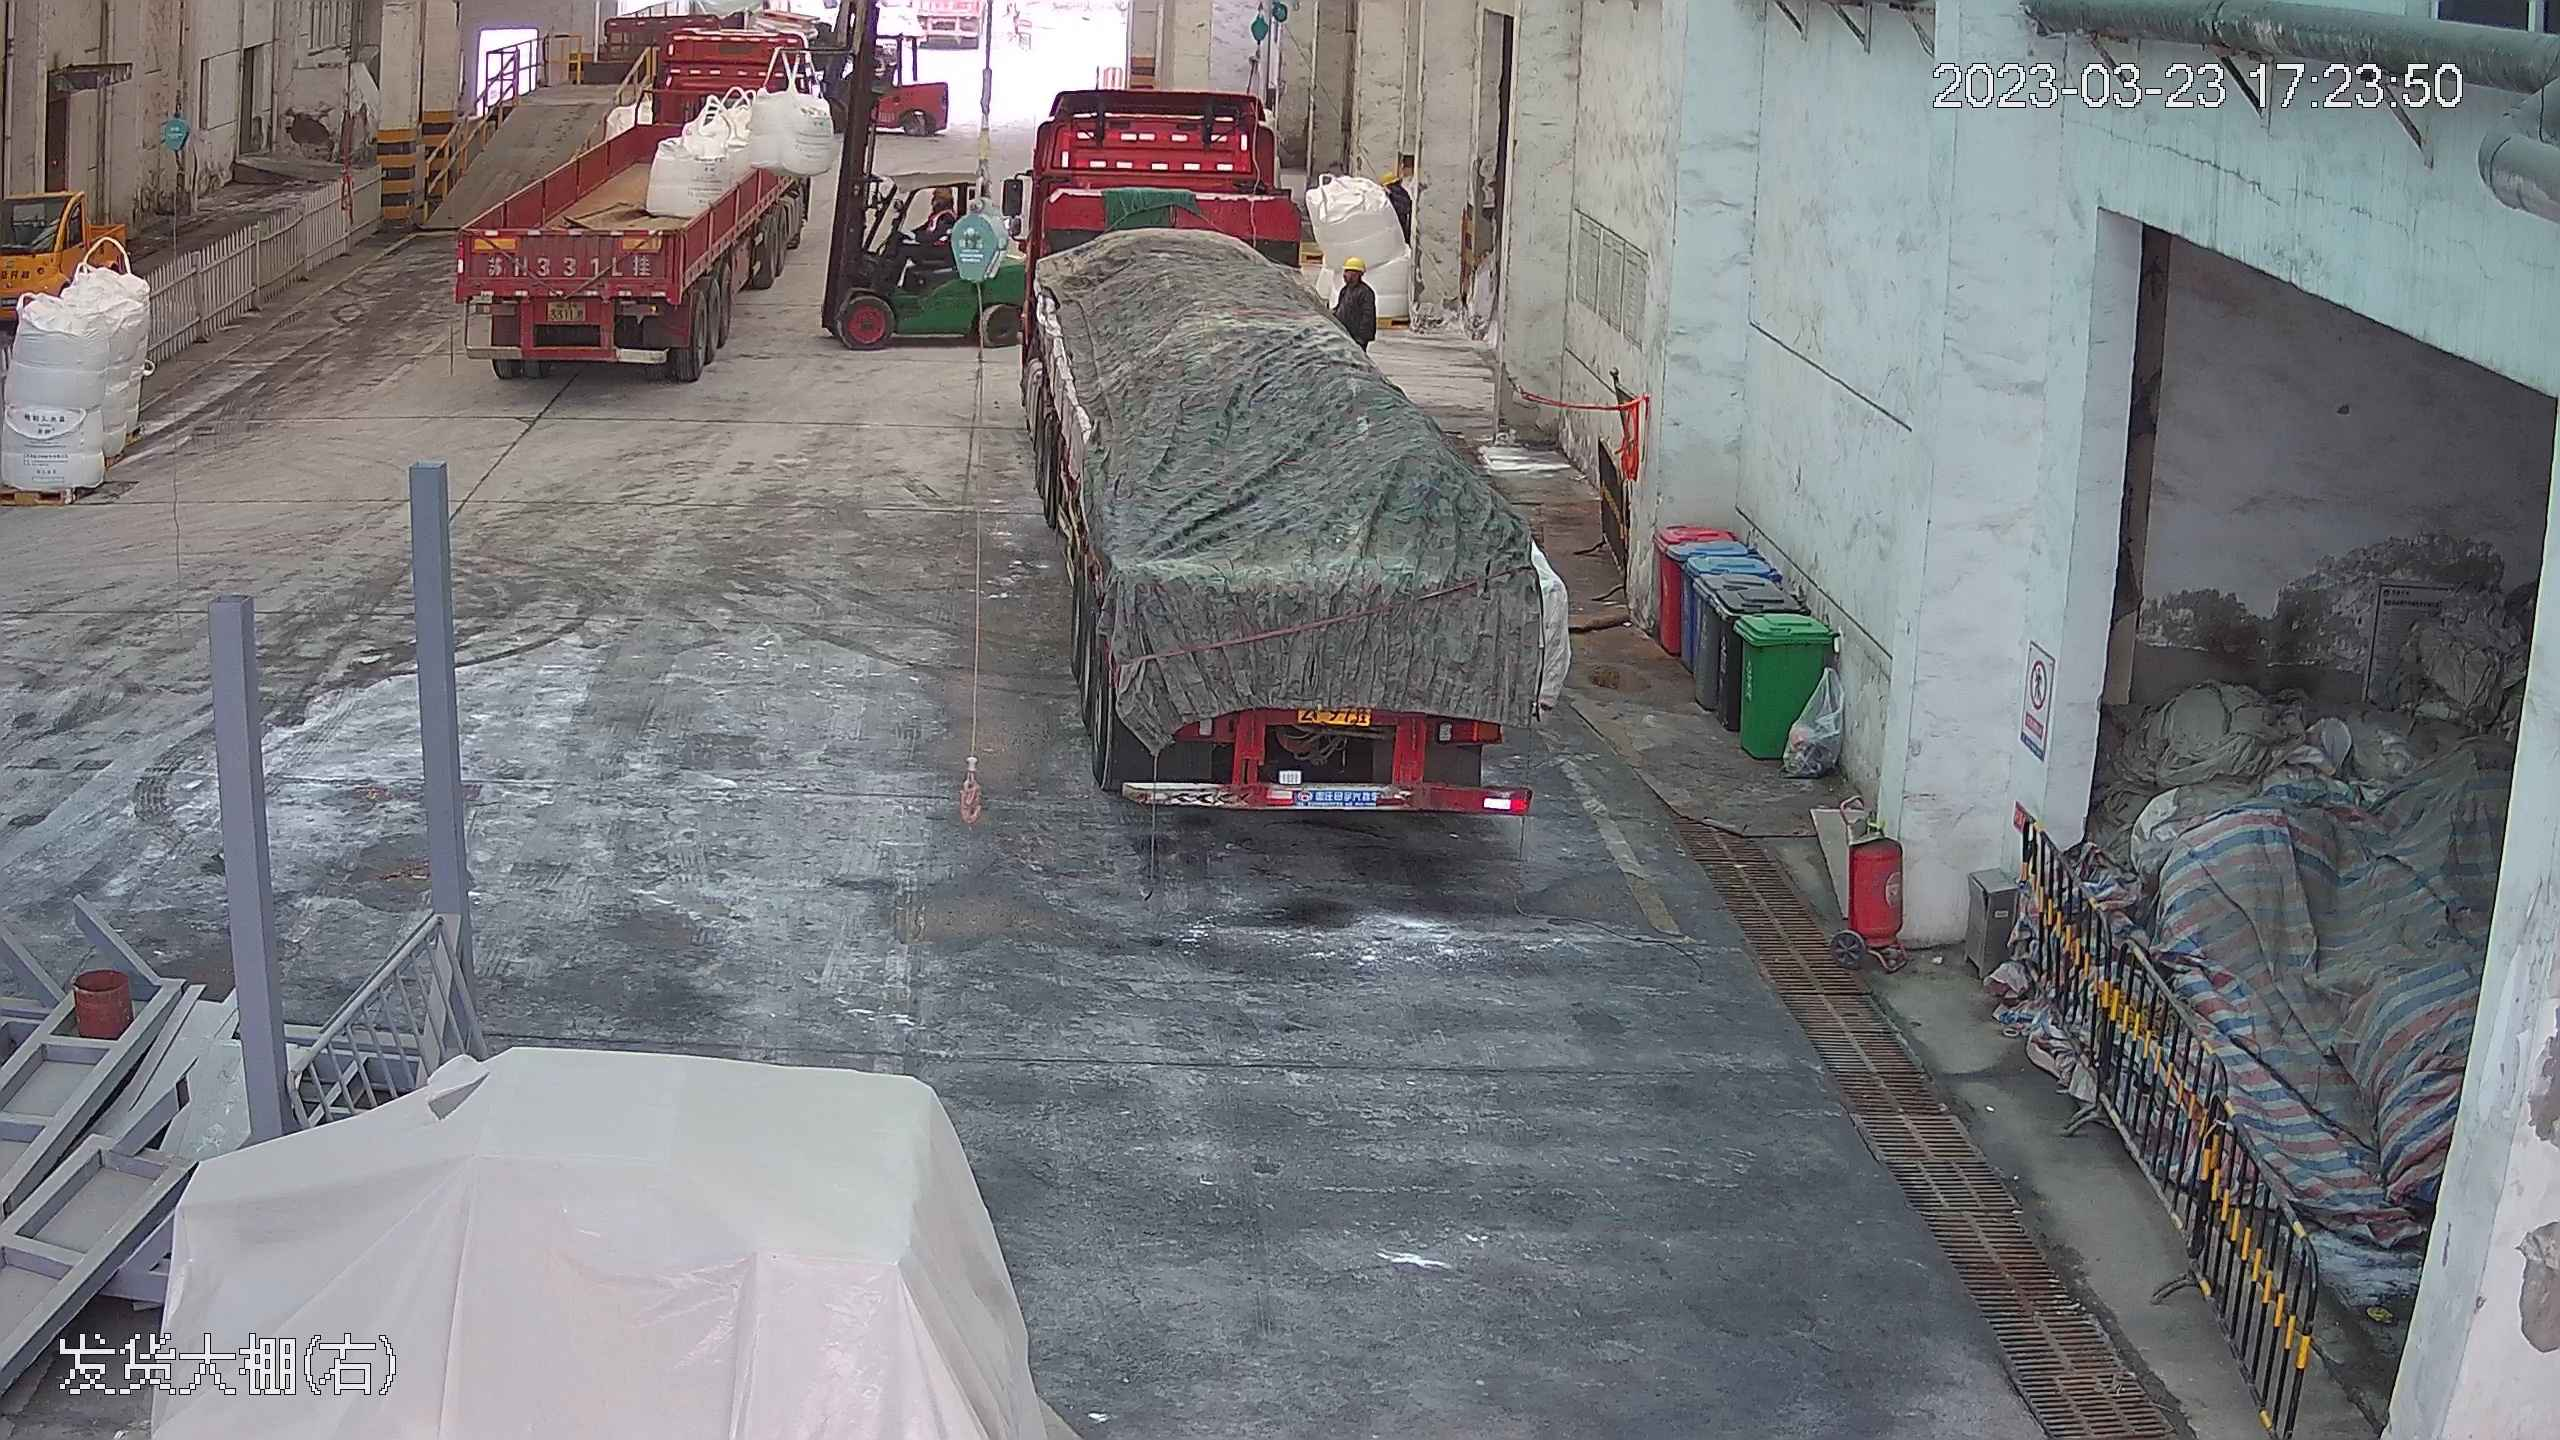head: (1379, 160, 1414, 232), (1333, 253, 1378, 303), (921, 183, 960, 226), (1377, 162, 1411, 197)
helmet: (1339, 251, 1367, 274), (1387, 159, 1408, 181), (933, 185, 953, 200)
people: (899, 182, 960, 279), (1329, 257, 1380, 354), (1374, 157, 1416, 244)
truck: (1013, 60, 1562, 820), (443, 12, 807, 389)
